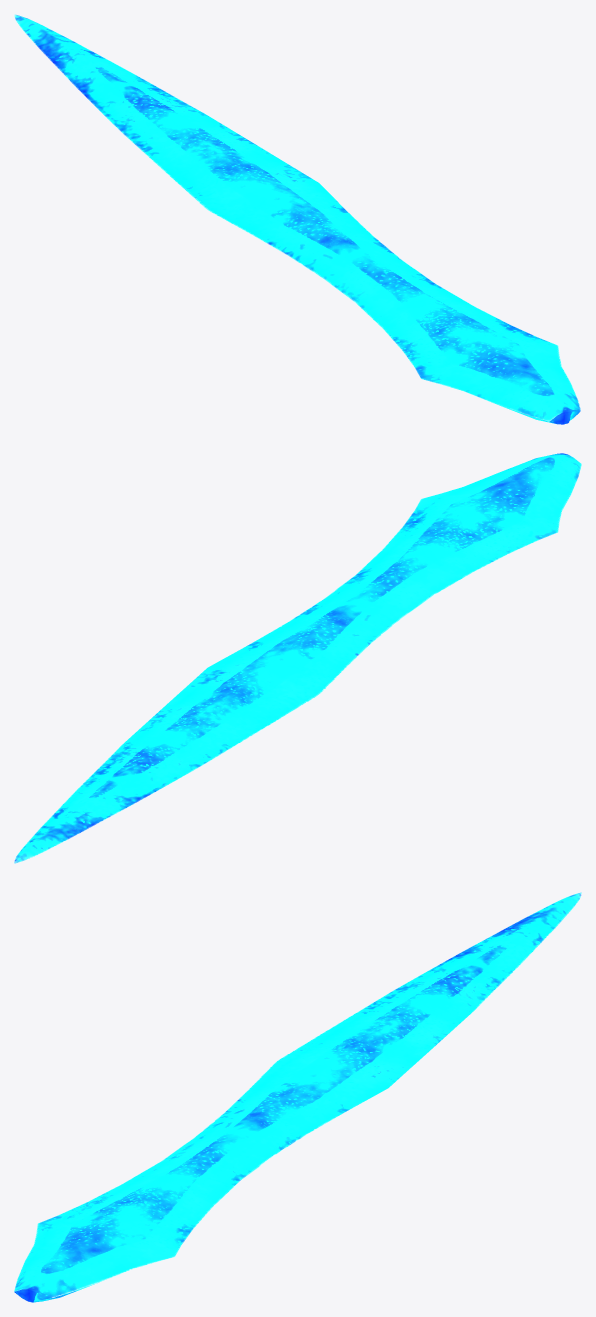
Rendered from serd.FBX.
3 views of the same model, one above another, from view 1: azimuth 30°, elevation 25°; view 2: azimuth 150°, elevation 25°; view 3: azimuth 330°, elevation 25° (orthographic).
Visible parts, largest first — view 1: serd; view 2: serd; view 3: serd.
Boxes of the visible parts, box(x1,y1,x2,y2) form: serd: box(14, 14, 580, 424); serd: box(14, 453, 581, 863); serd: box(14, 892, 581, 1302).
Bounding box in the file's own units: 25.73 × 4.67 × 179.
Materials: 1 (1 with a texture image).
